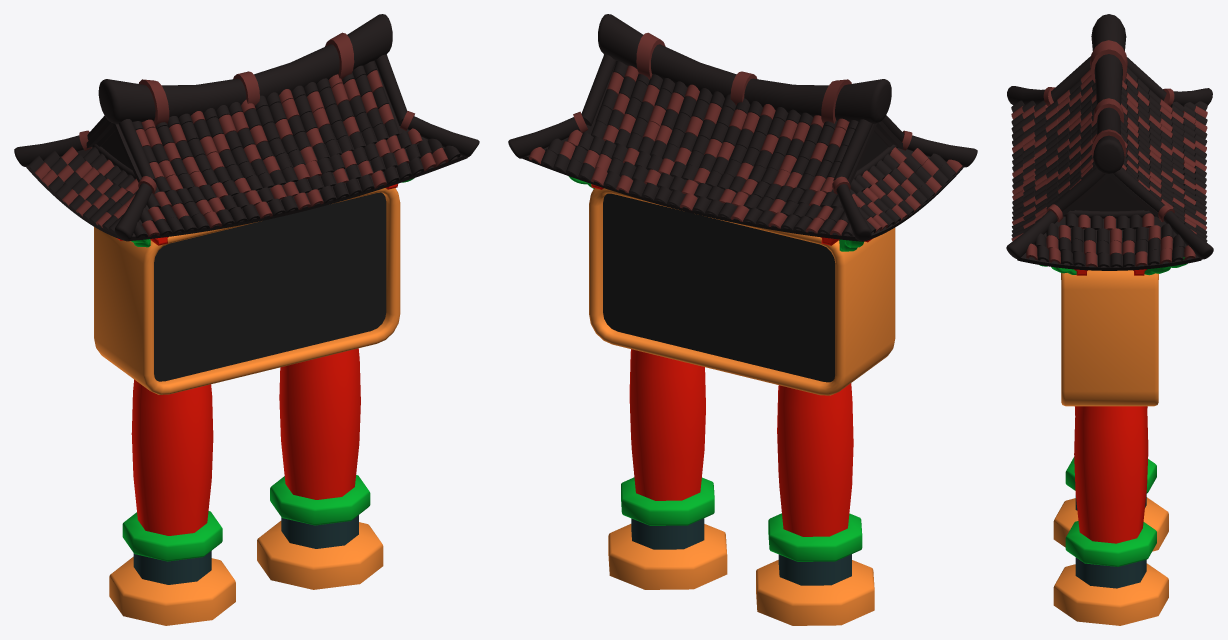
The model's file is Stadium_Screen.FBX.
The picture shows the model from 3 angles, left to right: view 1: azimuth 30°, elevation 25°; view 2: azimuth 150°, elevation 25°; view 3: azimuth 270°, elevation 25°; orthographic projection. The views are drawn at different scales.
Visible parts, largest first — view 1: Stadium_Screen, Display_Support_Cheoma_Monitor; view 2: Stadium_Screen, Display_Support_Cheoma_Monitor; view 3: Stadium_Screen, Display_Support_Cheoma_Monitor.
Part boxes in pixels (box(x1,y1,x2,y2)): Stadium_Screen: box(14, 14, 479, 381); Display_Support_Cheoma_Monitor: box(94, 178, 414, 625); Stadium_Screen: box(508, 14, 977, 382); Display_Support_Cheoma_Monitor: box(568, 176, 895, 625); Stadium_Screen: box(1006, 14, 1213, 270); Display_Support_Cheoma_Monitor: box(1039, 257, 1187, 625).
Size of the model in its own units: 1694 by 2382 by 911.
